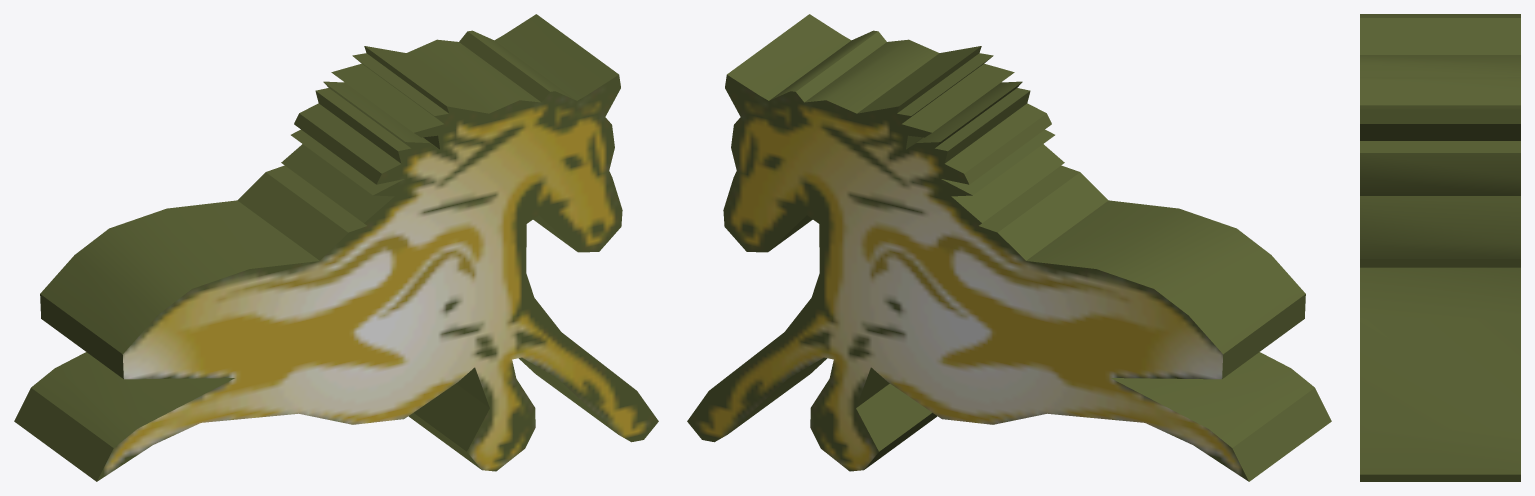
The model's file is EQ2006.ICO.obj.
The picture shows the model from 3 angles, left to right: view 1: azimuth 30°, elevation 25°; view 2: azimuth 150°, elevation 25°; view 3: azimuth 270°, elevation 25°; orthographic projection. The views are drawn at different scales.
Size of the model in its own units: 2.83 by 1.83 by 0.7205.
1 material, 1 textured.
